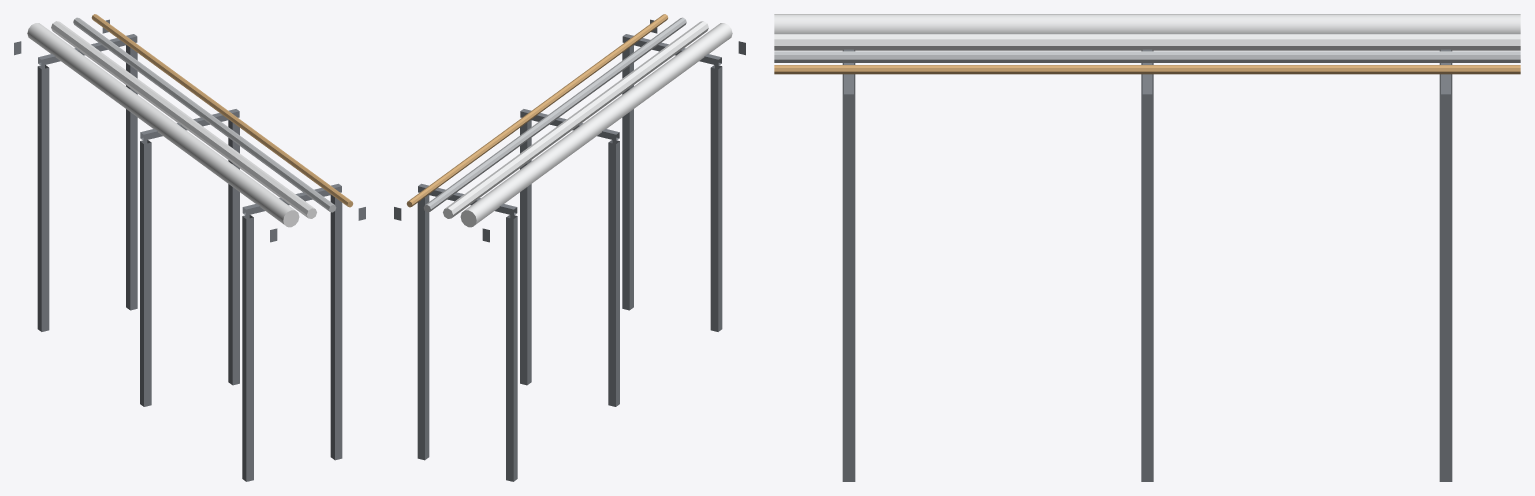
File: SM_PIPE_RACK.fbx
3 renders of one model, left to right at view 1: azimuth 30°, elevation 25°; view 2: azimuth 150°, elevation 25°; view 3: azimuth 270°, elevation 25°, orthographic. The views are drawn at different scales.
Parts seen in each view (by area): view 1: SM_PIPE_RACK; view 2: SM_PIPE_RACK; view 3: SM_PIPE_RACK.
Boxes of the visible parts, x1,y1,x2,y2 form: SM_PIPE_RACK: [14, 14, 365, 481]; SM_PIPE_RACK: [394, 14, 745, 481]; SM_PIPE_RACK: [774, 14, 1520, 481].
Bounding box in the file's own units: 130 × 367 × 600.
